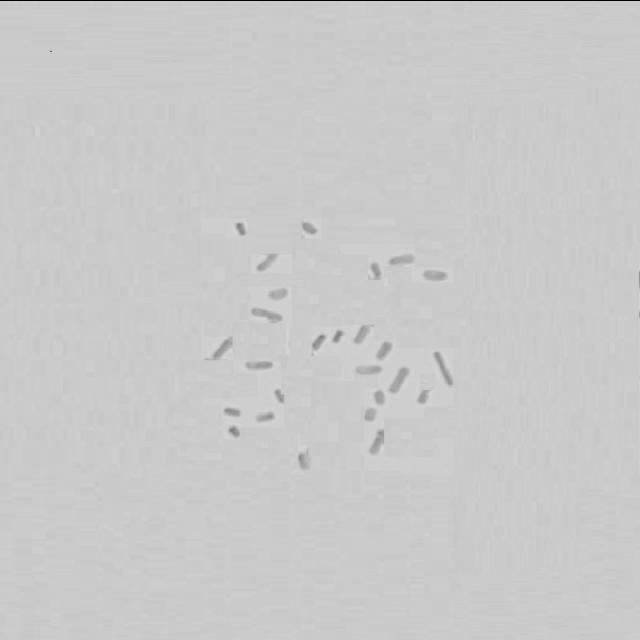E-coli: (434, 349, 457, 386), (210, 333, 236, 361), (414, 267, 454, 285), (388, 365, 410, 393), (246, 305, 283, 321), (368, 430, 388, 458), (348, 362, 384, 377), (304, 332, 329, 352), (239, 358, 277, 371), (297, 221, 322, 239), (261, 286, 293, 300), (229, 219, 251, 239), (387, 253, 417, 267), (255, 253, 278, 271), (294, 450, 314, 470), (414, 383, 434, 403), (365, 260, 385, 280), (354, 322, 372, 344), (360, 407, 383, 423), (223, 421, 243, 439), (330, 327, 348, 347), (251, 410, 278, 423), (218, 404, 243, 418), (374, 341, 392, 359), (370, 388, 386, 406), (267, 387, 287, 401)
